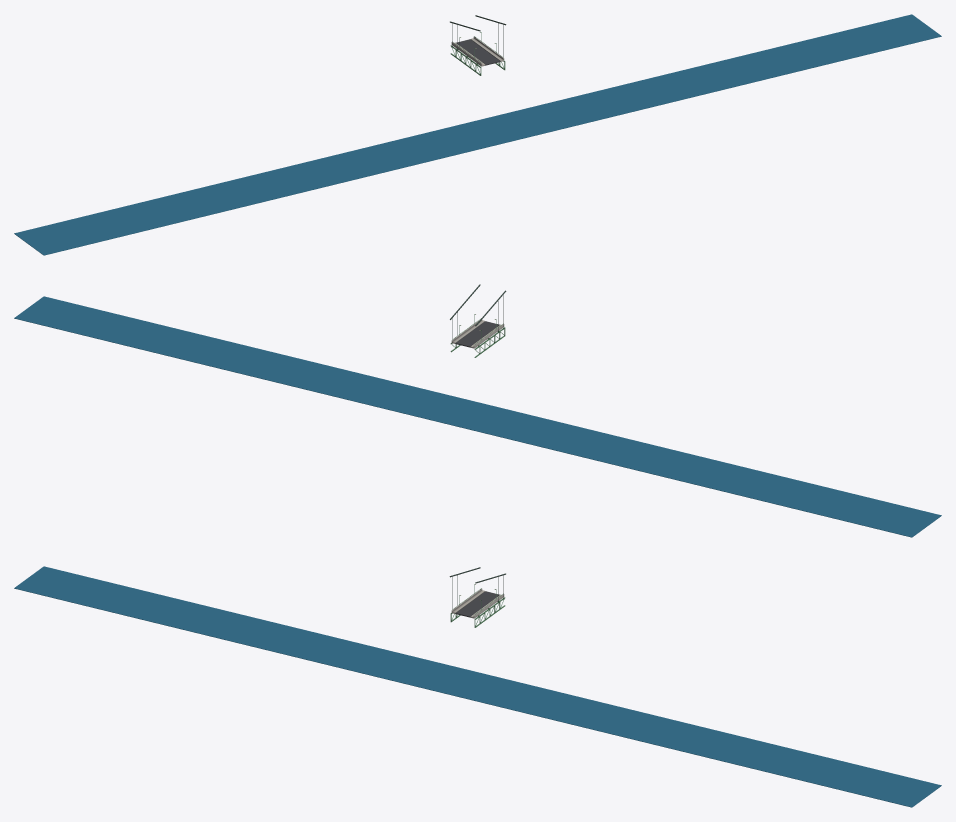
The model's file is puente_amb_2.glb.
The picture shows the model from 3 angles, top to bottom: view 1: azimuth 30°, elevation 25°; view 2: azimuth 150°, elevation 25°; view 3: azimuth 330°, elevation 25°; orthographic projection.
Visible parts, largest first — view 1: puente_amb_2; view 2: puente_amb_2; view 3: puente_amb_2.
Part boxes in pixels (x1,y1,x2,y2): puente_amb_2: [14, 14, 941, 255]; puente_amb_2: [14, 284, 941, 537]; puente_amb_2: [14, 566, 941, 807].
Size of the model in its own units: 520 by 65.76 by 30.23.
1 material, 1 textured.
